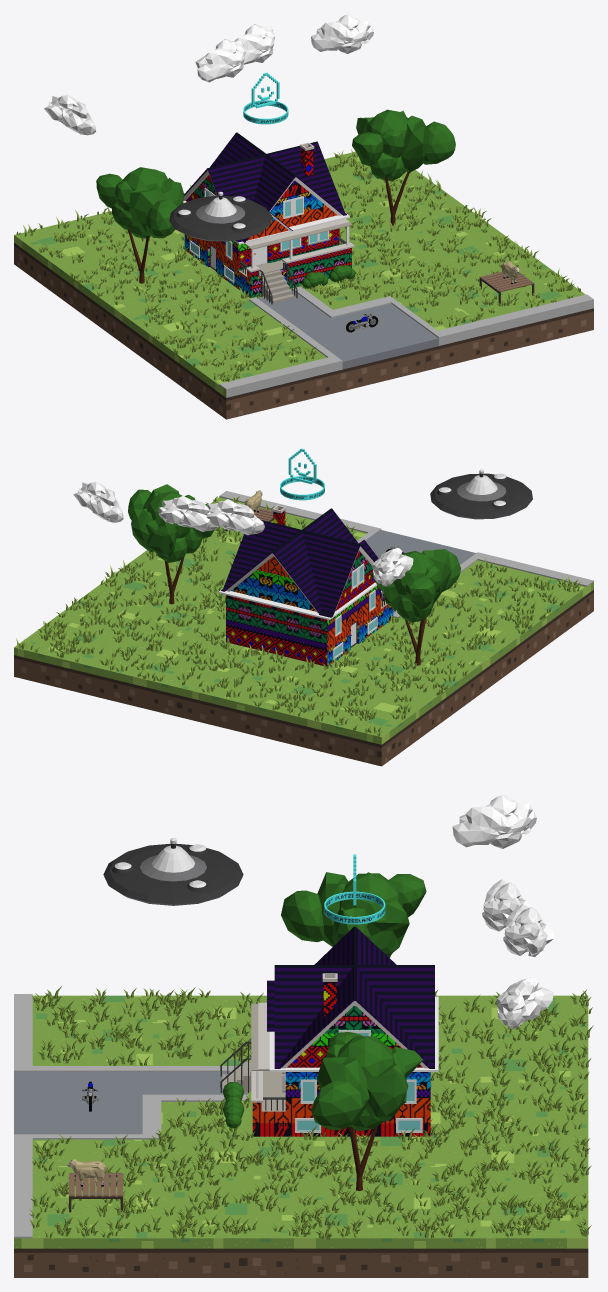
The picture shows the model from 3 angles, top to bottom: view 1: azimuth 30°, elevation 25°; view 2: azimuth 150°, elevation 25°; view 3: azimuth 270°, elevation 25°; orthographic projection. The views are drawn at different scales.
Parts seen in each view (by area): view 1: Cube.006, Circle.012_Grass_0.192, Cube.966, Cube.007, tree, tree.001, OBJRANDOM_UFO, TYPE_PREMIUM, Cube.009; view 2: Cube.006, Cube.966, Circle.012_Grass_0.192, Cube.007, tree.001, tree, OBJRANDOM_UFO, TYPE_PREMIUM; view 3: Cube.006, Circle.012_Grass_0.192, Cube.966, tree, Cube.007, tree.001, OBJRANDOM_UFO, Cube.009, TYPE_PREMIUM, ANIMAL_OVEJA.
Part boxes in pixels (box(x1,y1,x2,y2)): Cube.006: box(14, 151, 593, 419); Circle.012_Grass_0.192: box(16, 149, 580, 381); Cube.966: box(183, 132, 354, 304); Cube.007: box(44, 14, 373, 135); tree: box(352, 109, 455, 225); tree.001: box(96, 167, 184, 283); OBJRANDOM_UFO: box(169, 191, 271, 241); TYPE_PREMIUM: box(243, 72, 288, 124); Cube.009: box(479, 271, 534, 303); Cube.006: box(14, 491, 593, 766); Cube.966: box(218, 505, 393, 666); Circle.012_Grass_0.192: box(16, 496, 580, 736); Cube.007: box(73, 481, 413, 586); tree.001: box(370, 549, 460, 665); tree: box(128, 484, 214, 604); OBJRANDOM_UFO: box(430, 469, 532, 519); TYPE_PREMIUM: box(280, 448, 324, 500); Cube.006: box(14, 994, 588, 1277); Circle.012_Grass_0.192: box(29, 986, 593, 1239); Cube.966: box(220, 926, 438, 1136); tree: box(311, 1032, 422, 1190); Cube.007: box(452, 795, 553, 1029); tree.001: box(281, 872, 426, 957); OBJRANDOM_UFO: box(103, 838, 243, 905); Cube.009: box(69, 1172, 122, 1212); TYPE_PREMIUM: box(324, 854, 385, 924); ANIMAL_OVEJA: box(67, 1159, 106, 1186).
Size of the model in its own units: 4071 by 2278 by 4040.
Materials: 41 (8 with a texture image).
